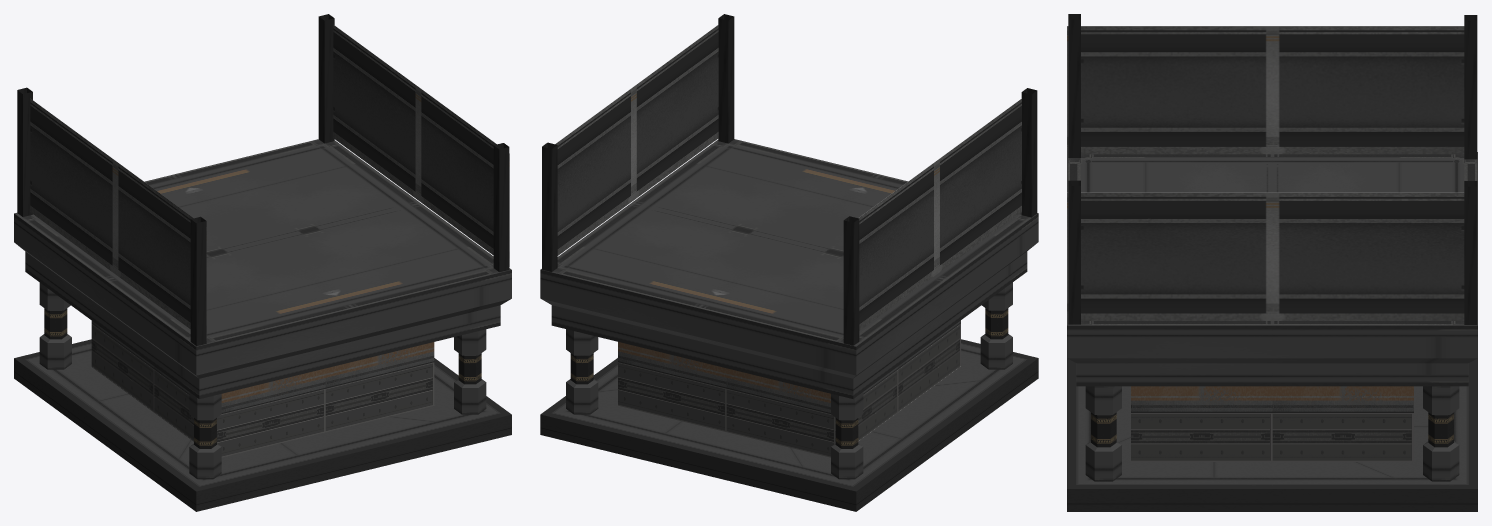
File: ArenaElevator2.fbx
3 views of the same model, side by side, from view 1: azimuth 30°, elevation 25°; view 2: azimuth 150°, elevation 25°; view 3: azimuth 270°, elevation 25° (orthographic). The views are drawn at different scales.
Parts seen in each view (by area): view 1: Elevator, Elevator.001; view 2: Elevator, Elevator.001; view 3: Elevator.001, Elevator.
Part boxes in pixels (x1=…): Elevator: x1=14, y1=139, x2=511, y2=511; Elevator.001: x1=17, y1=14, x2=509, y2=346; Elevator: x1=540, y1=139, x2=1038, y2=511; Elevator.001: x1=542, y1=14, x2=1037, y2=345; Elevator.001: x1=1067, y1=14, x2=1477, y2=324; Elevator: x1=1067, y1=152, x2=1477, y2=511.
Size of the model in its own units: 200 by 174 by 200.
